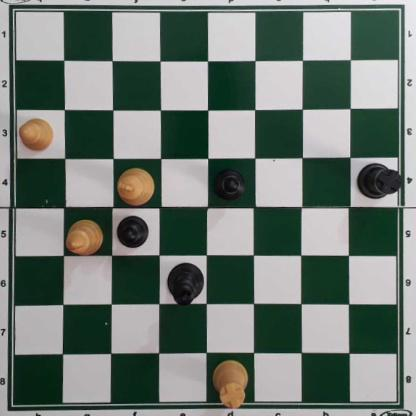black-king: (166, 264, 207, 306)
black-pawn: (117, 216, 149, 251), (215, 169, 245, 203)
black-rook: (356, 162, 401, 200)
white-bishop: (65, 219, 104, 255)
white-king: (118, 168, 154, 208)
white-pawn: (19, 118, 55, 154)
white-rook: (211, 362, 250, 409)
